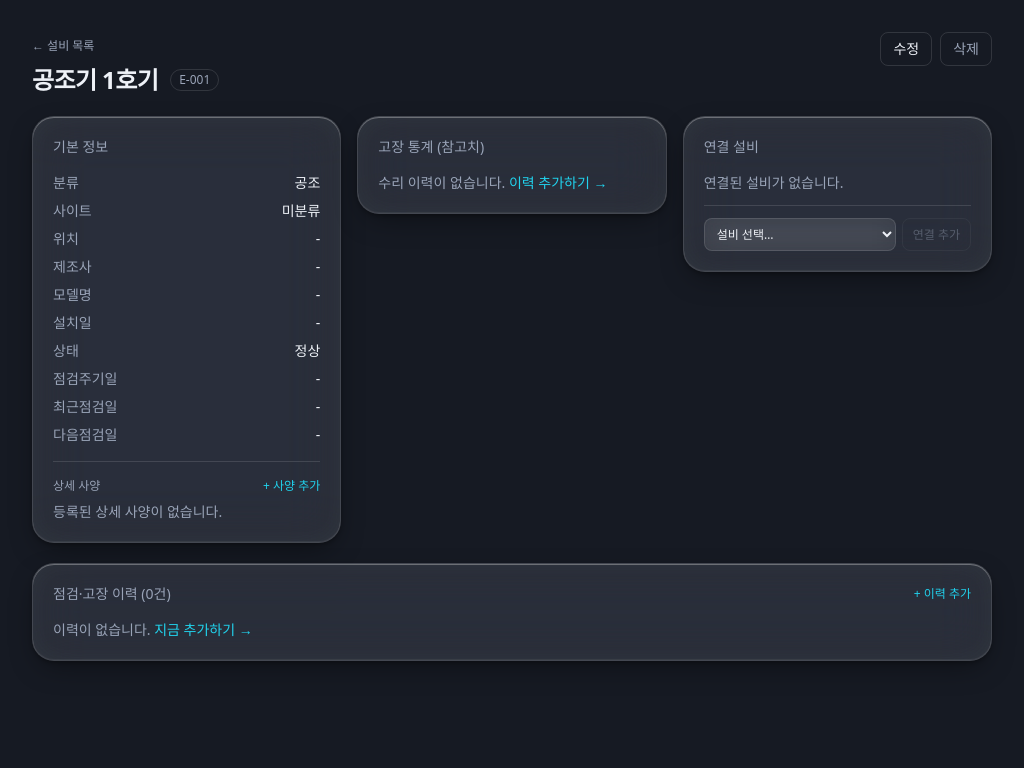
it: EquipmentDetail › 상세사양 편집 › + 사양 추가 폼으로 등록하면 store에 반영된다
Click the button "+ 사양 추가".
click(292, 486)  # box [263,478,320,494]
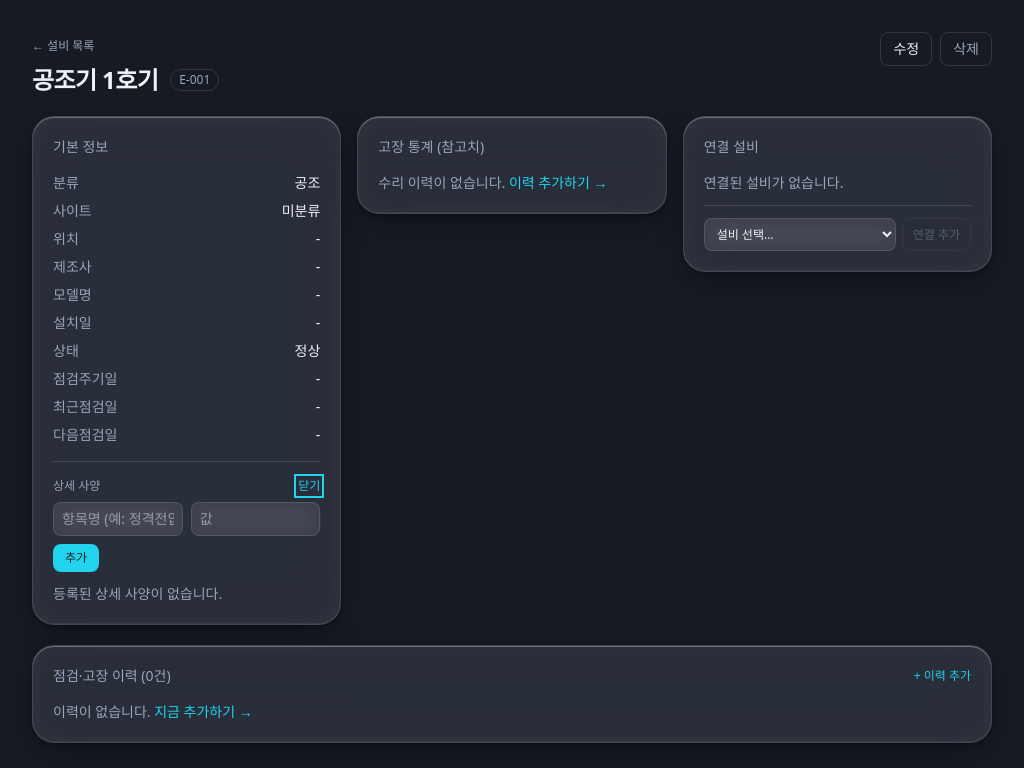
Type "정격전압" into the field with placeholder "항목명 (예: 정격전압)".
click(118, 519); type("정격전압")  # box [53,502,183,536]
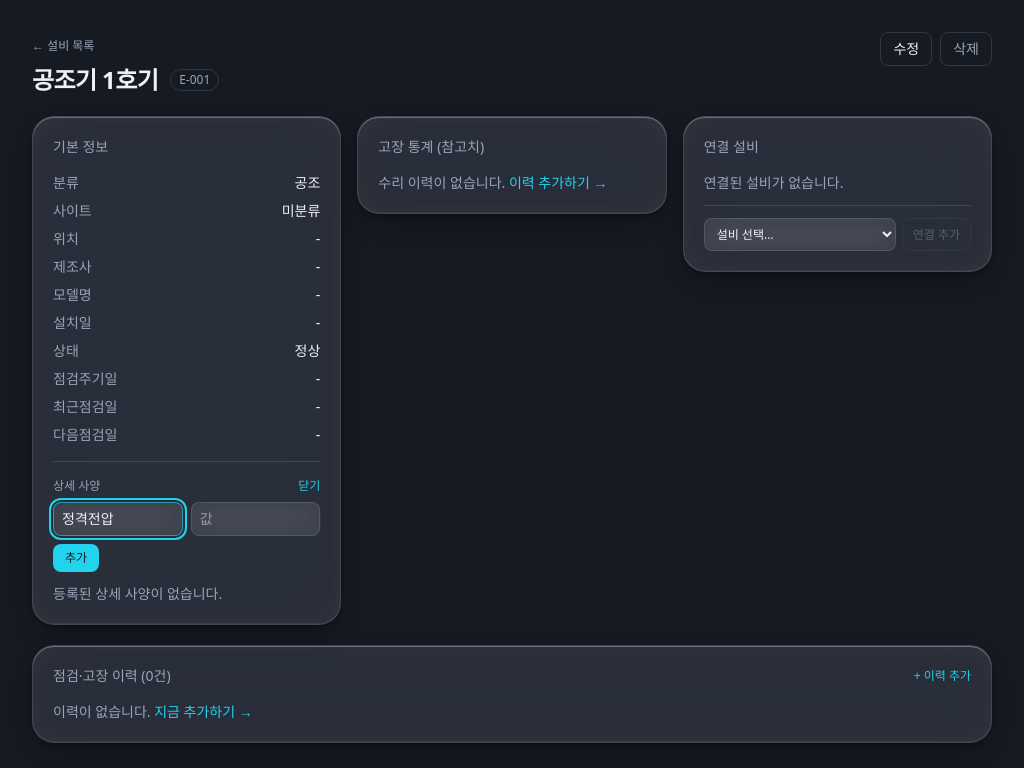
Type "380V" into the field with placeholder "값".
click(256, 519); type("380V")  # box [191,502,320,536]
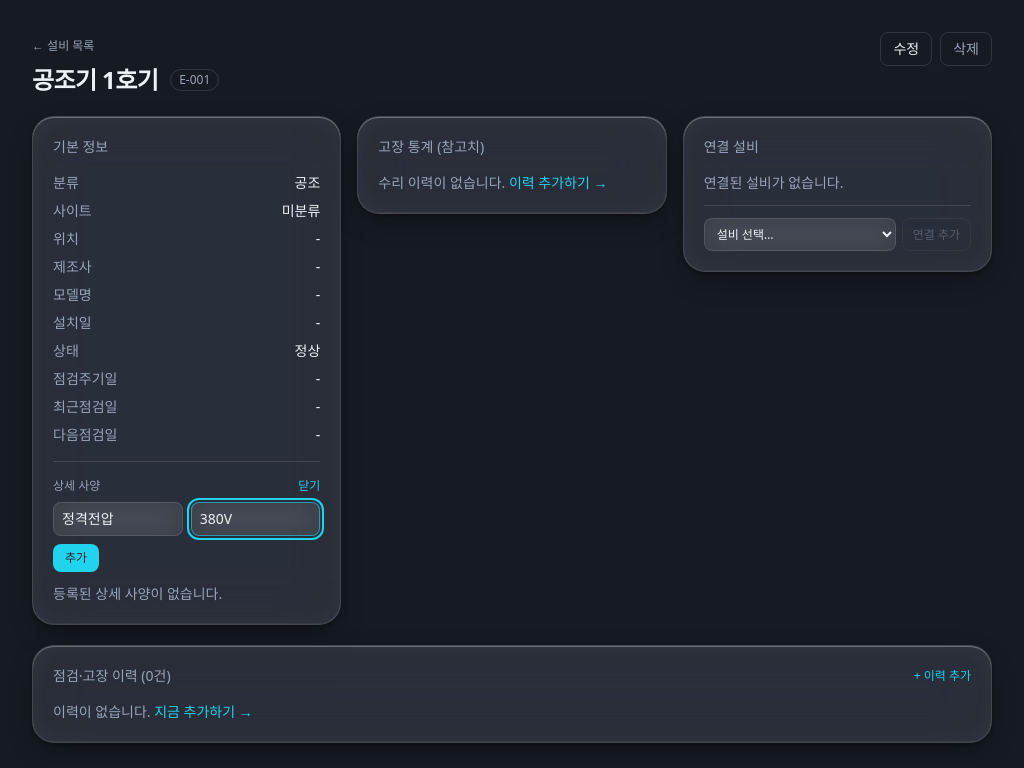
Click the button "추가".
click(76, 558)  # box [53,544,99,572]
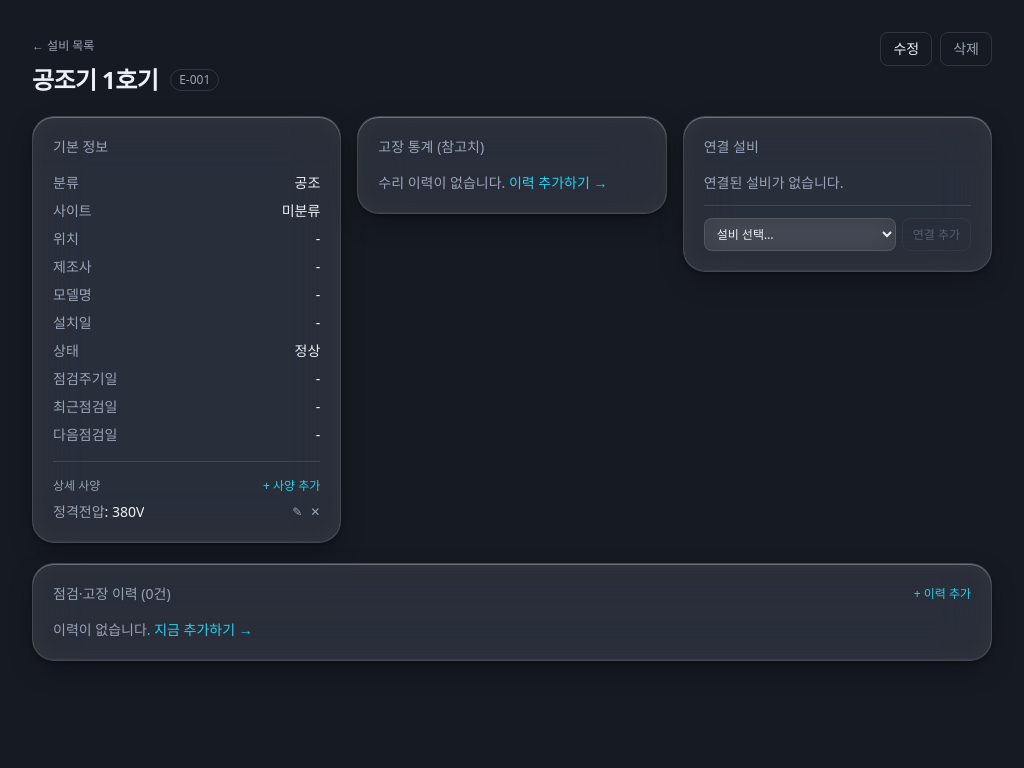
expect the text "380V" is shown: met, box [112,502,144,521]
